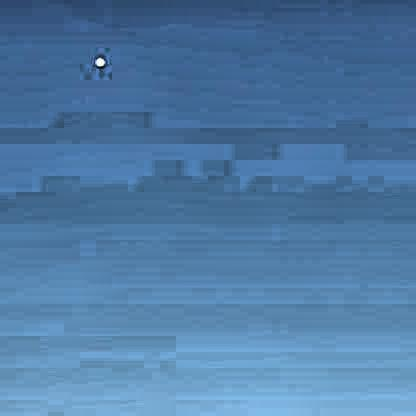golfball: (92, 52, 106, 67)
